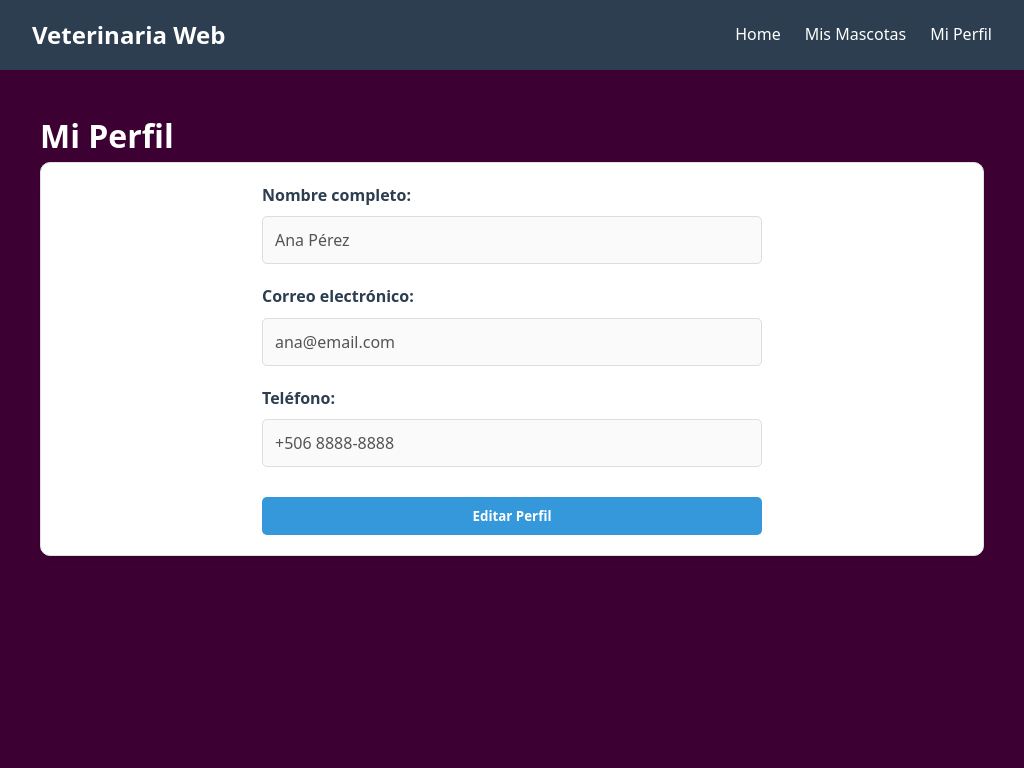
Scenario: Client Profile Page - Veterinaria App › should save changes successfully
The width and height of the screenshot is (1024, 768).
Click the button "Editar Perfil": click(512, 516) [262, 497, 762, 535]
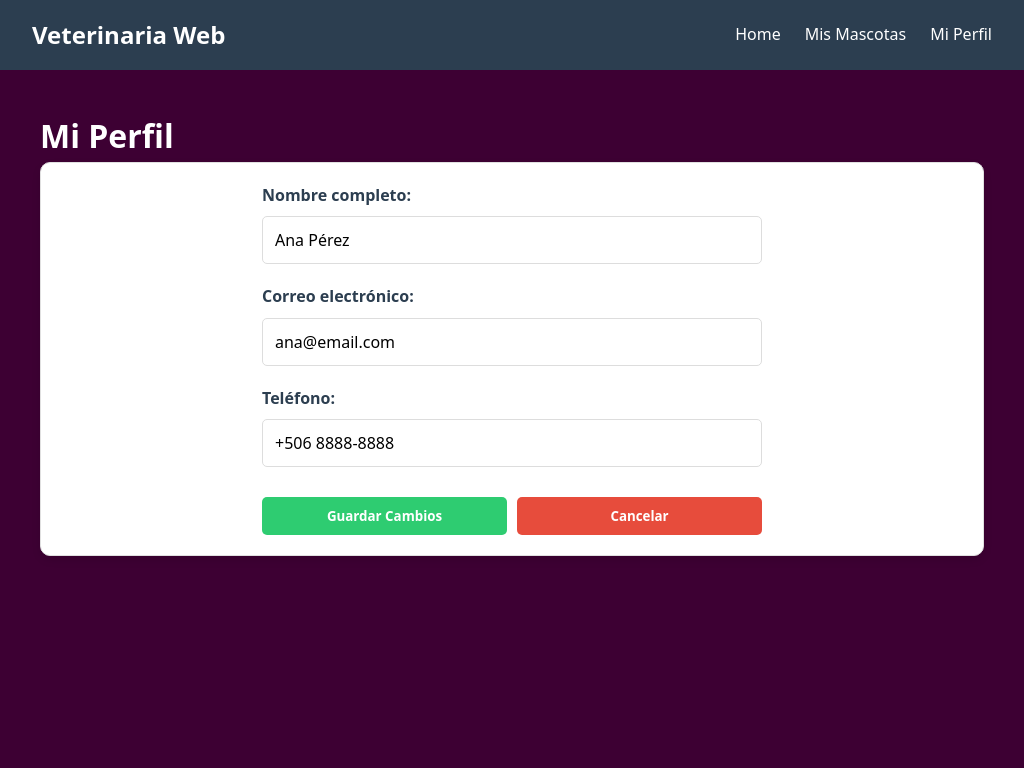
Replace the text in the field named "name" below "Nombre completo:" with "Juan Pérez Updated": (512, 240) [262, 216, 762, 264]
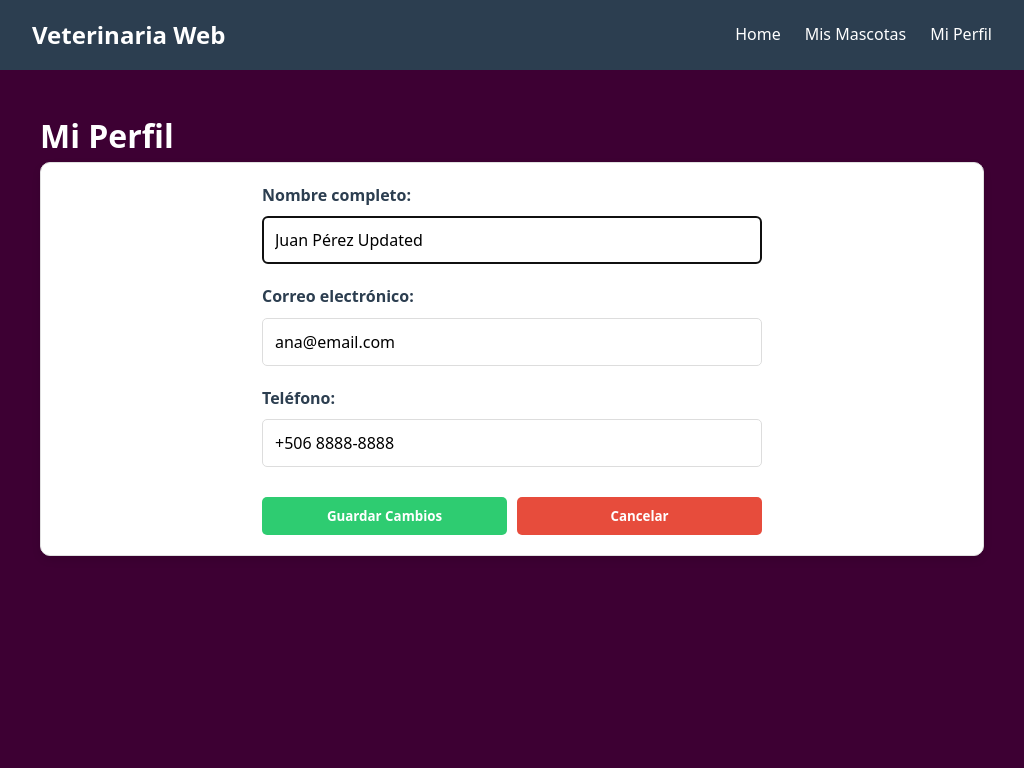
Replace the text in the field named "email" below "Correo electrónico:" with "juan@email.com": (512, 342) [262, 318, 762, 366]
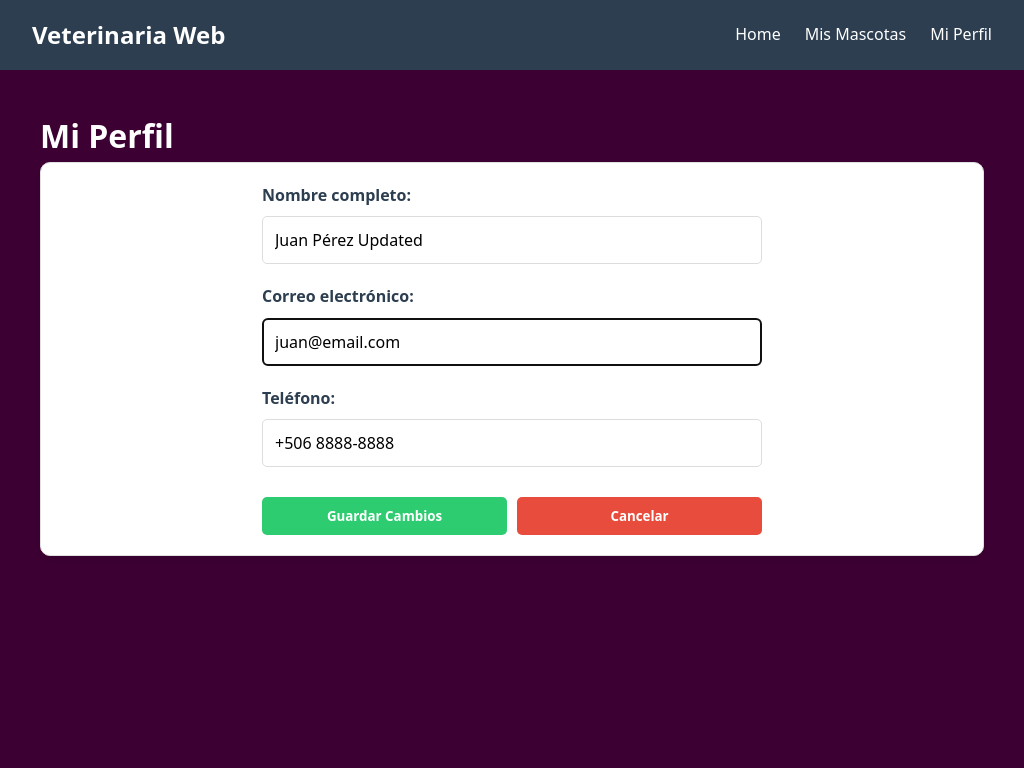
Click the button "Guardar Cambios": click(385, 516) [262, 497, 507, 535]
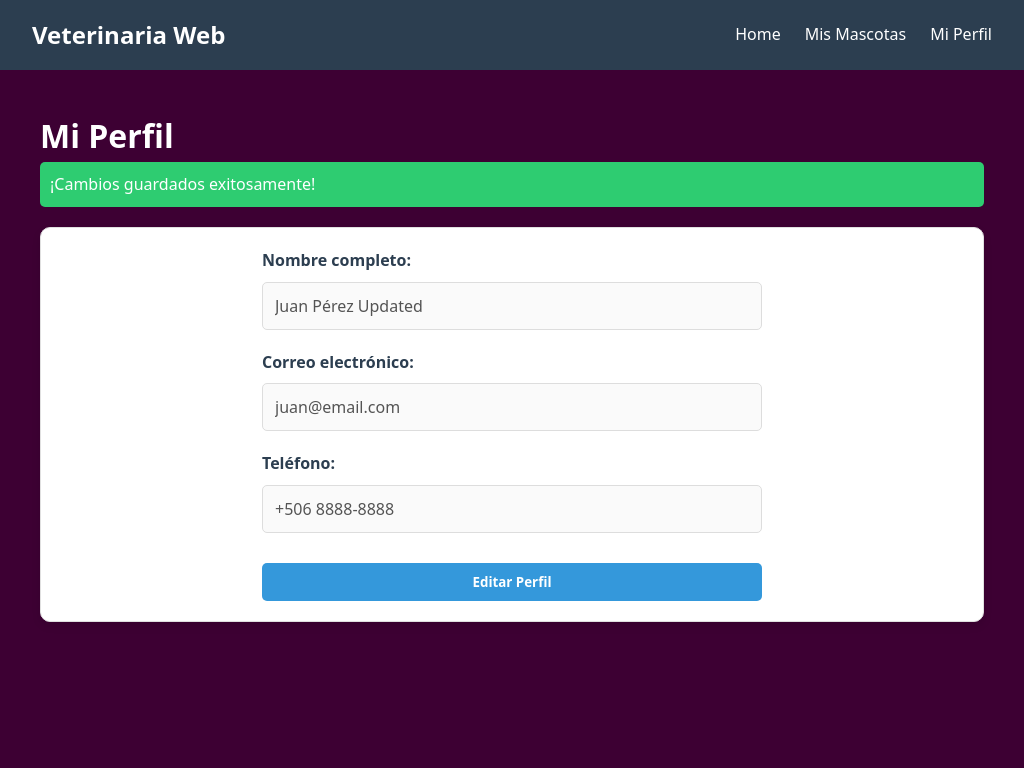
Now the field named "name" below "Nombre completo:" holds "Juan Pérez Updated", box [262, 282, 762, 330]
Now the text "¡Cambios guardados exitosamente!" is shown, box [40, 162, 984, 207]
